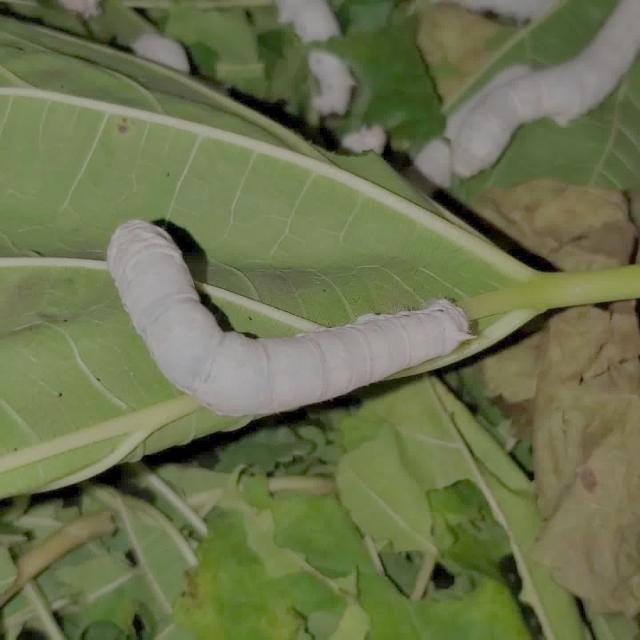Healthy: (99, 208, 484, 436)
